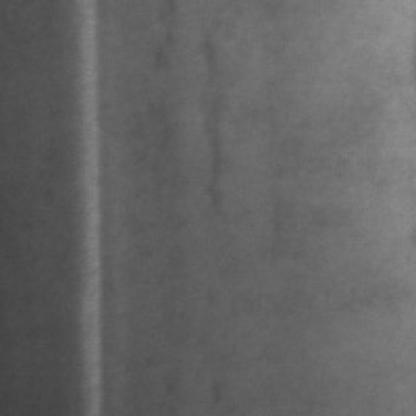inclusion: (196, 36, 241, 216)
scratches: (80, 0, 110, 410)
